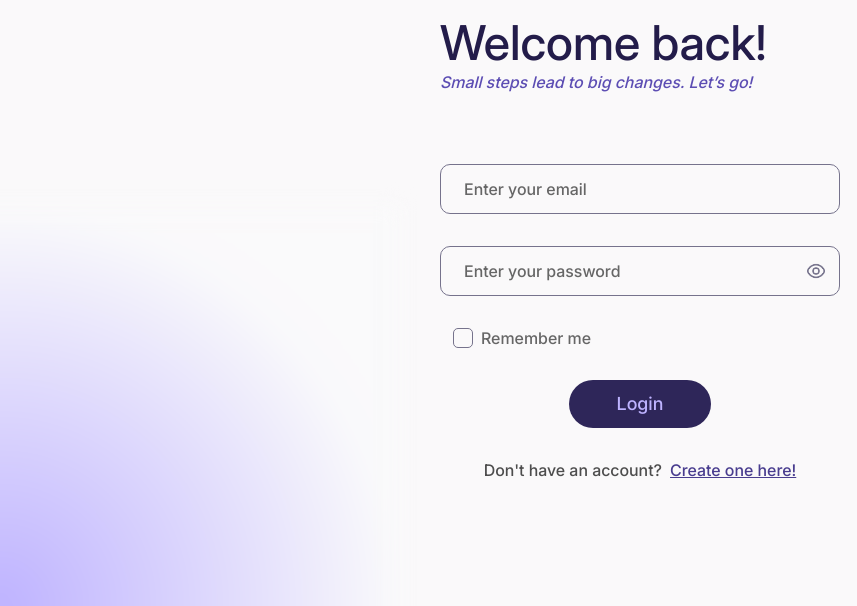
Test case: Login Page Frontend Validations › should show validation message if email is missing
Type "Nagyjelszo123!" into the password field with test id "password_text_input" at (640, 271), box [440, 246, 840, 296]
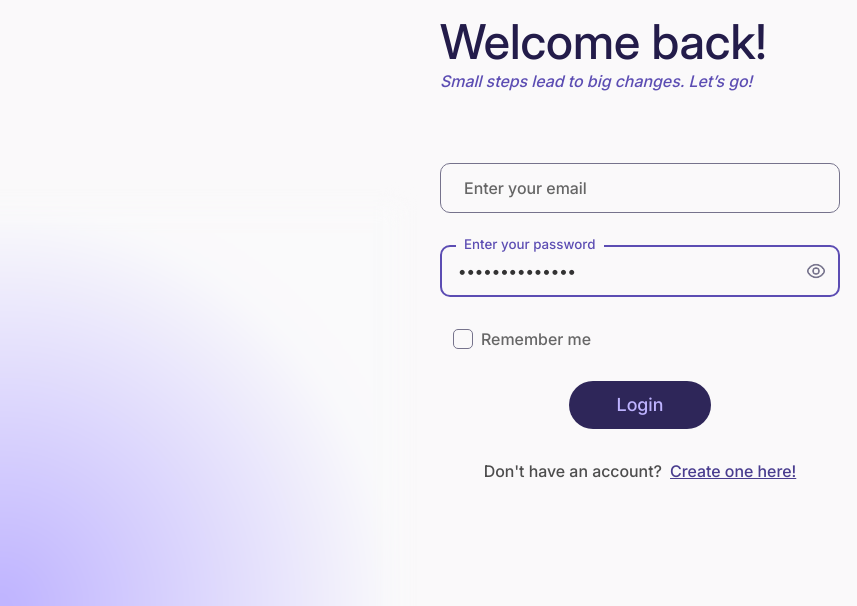
Click the button with test id "login_button" at (641, 405), box [569, 381, 712, 429]
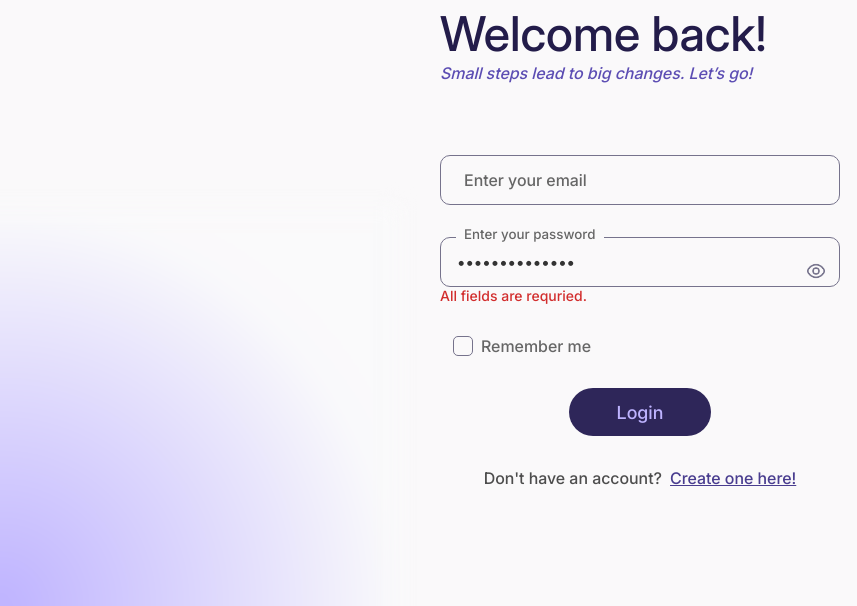
Expected: the element showing "All fields are requried." is shown, [440, 287, 587, 304]
